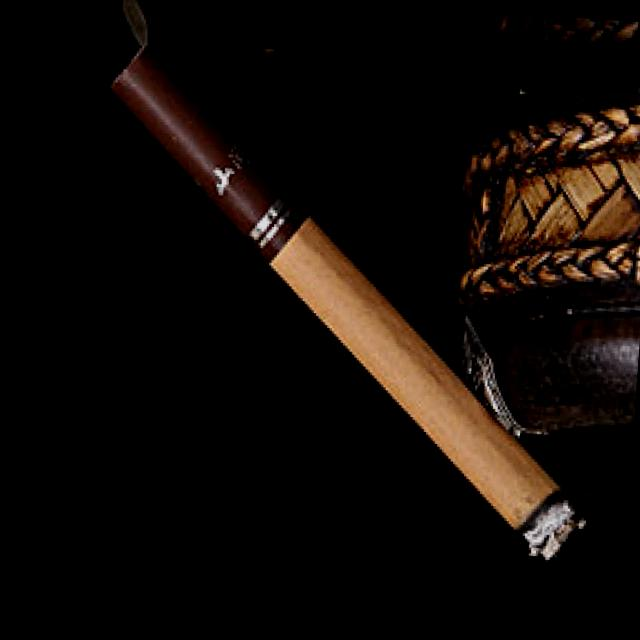cigarette: (66, 39, 620, 574)
